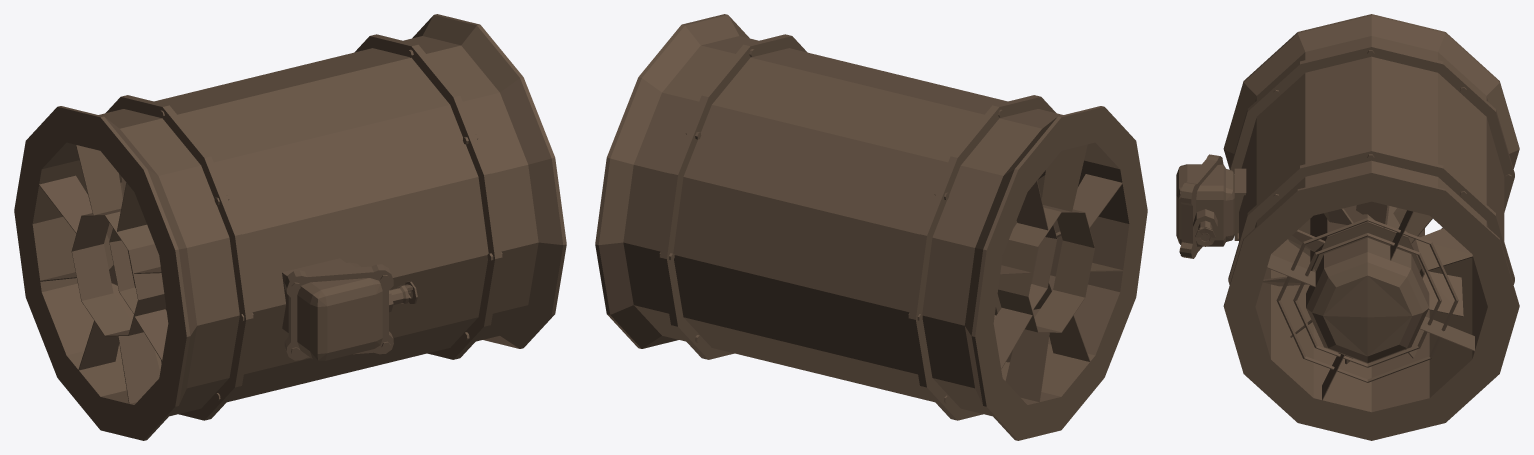
Rendered from ventilator.obj.
3 renders of one model, left to right at view 1: azimuth 30°, elevation 25°; view 2: azimuth 150°, elevation 25°; view 3: azimuth 270°, elevation 25°, orthographic. The views are drawn at different scales.
Visible parts, largest first — view 1: product-9aaf70e7-c33d-4a9a-beae-72fa2bada700-body; view 2: product-9aaf70e7-c33d-4a9a-beae-72fa2bada700-body; view 3: product-9aaf70e7-c33d-4a9a-beae-72fa2bada700-body.
Boxes of the visible parts, <box> form: product-9aaf70e7-c33d-4a9a-beae-72fa2bada700-body: <box>14,14,566,440</box>; product-9aaf70e7-c33d-4a9a-beae-72fa2bada700-body: <box>595,14,1147,440</box>; product-9aaf70e7-c33d-4a9a-beae-72fa2bada700-body: <box>1176,14,1519,440</box>.
Size of the model in its own units: 0.5414 by 0.4014 by 0.4657.
